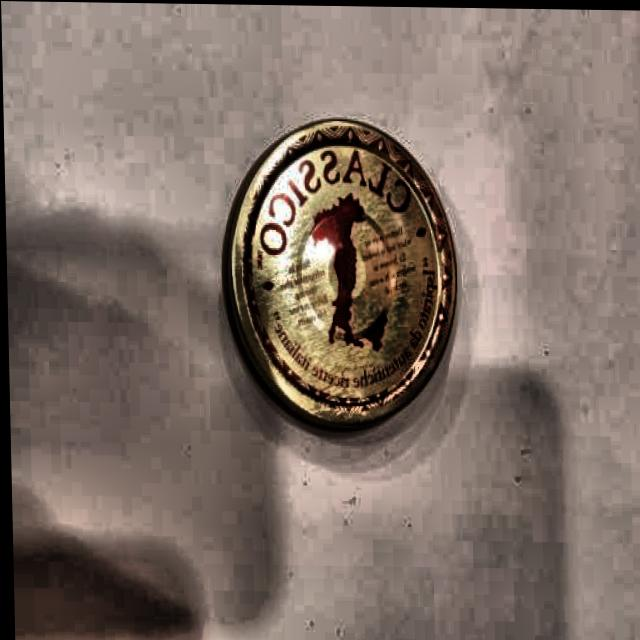metal: (216, 114, 461, 434)
